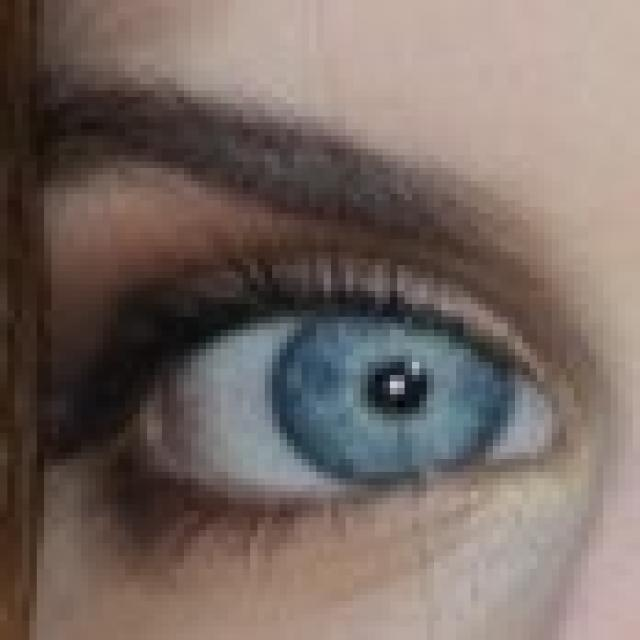Normal: (282, 277, 514, 498)
